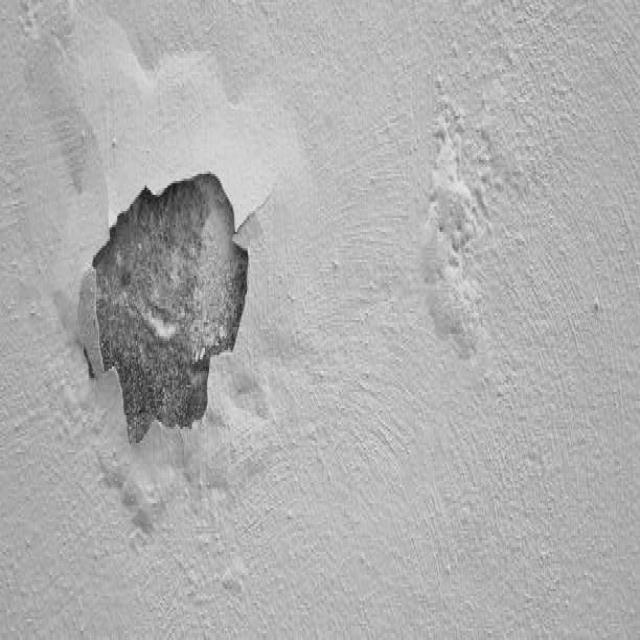peeling paint: (41, 67, 306, 555)
